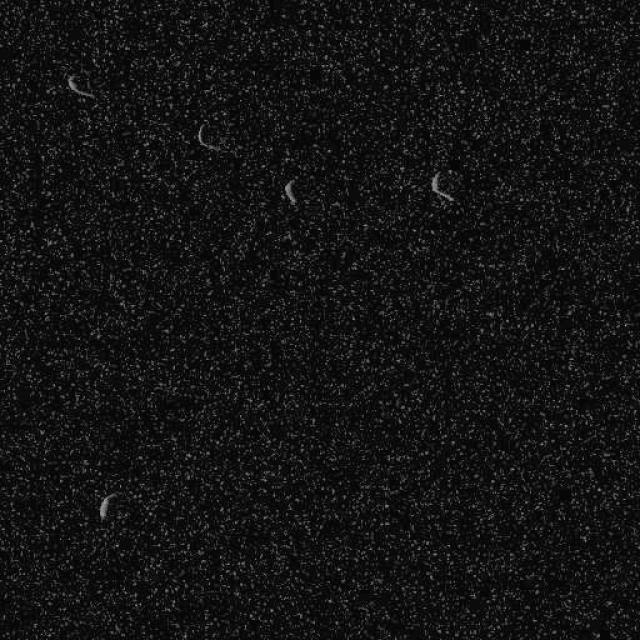D2: (65, 72, 95, 100), (429, 170, 455, 202), (195, 121, 221, 152), (96, 491, 118, 521), (282, 178, 298, 206)
